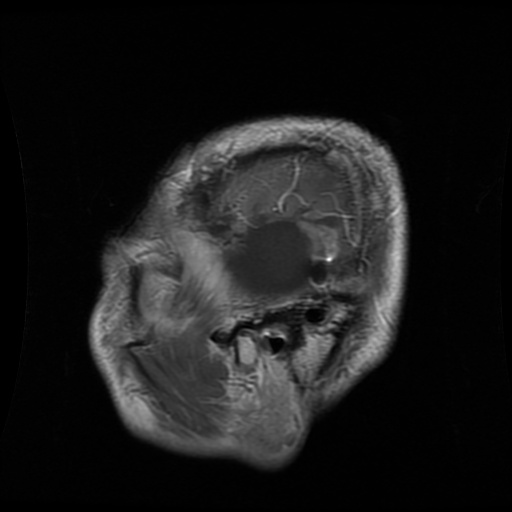glioma: (227, 214, 328, 299)
